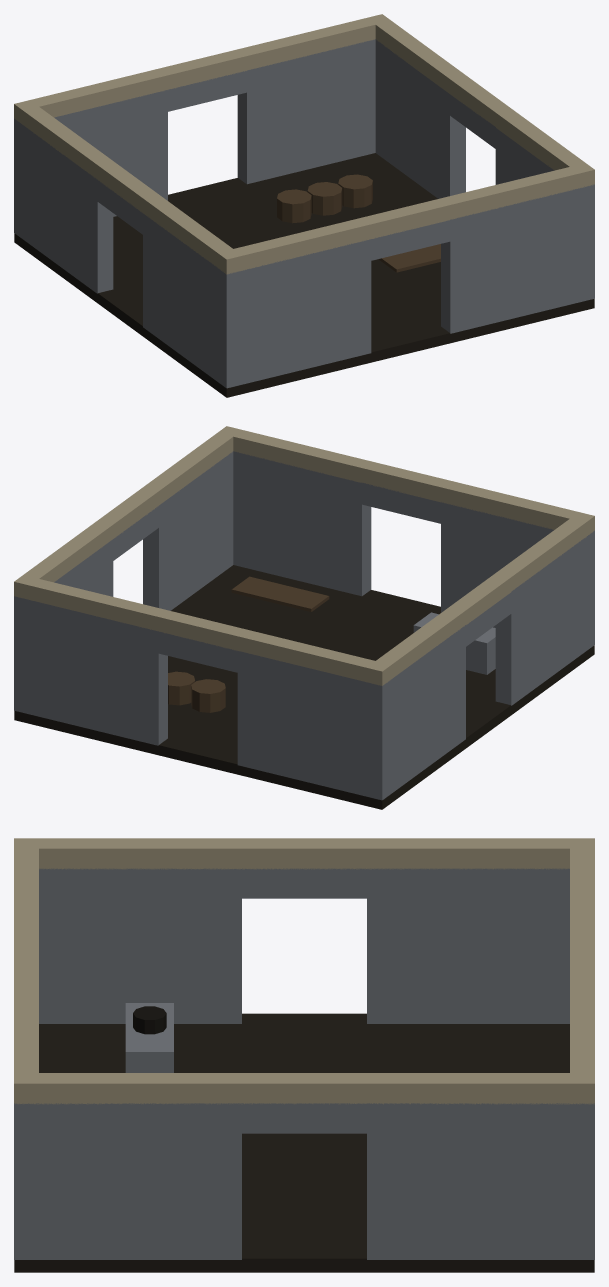
The model's file is KitchenRoom.fbx.
3 views of the same model, one above another, from view 1: azimuth 30°, elevation 25°; view 2: azimuth 150°, elevation 25°; view 3: azimuth 270°, elevation 25° (orthographic). The views are drawn at different scales.
Visible parts, largest first — view 1: KitchenRoom; view 2: KitchenRoom; view 3: KitchenRoom.
Boxes of the visible parts, box(x1,y1,x2,y2) form: KitchenRoom: box(14, 14, 594, 397); KitchenRoom: box(14, 426, 594, 809); KitchenRoom: box(14, 838, 594, 1272).
Bounding box in the file's own units: 1202 × 432 × 1202.
Materials: 5 (5 with a texture image).
